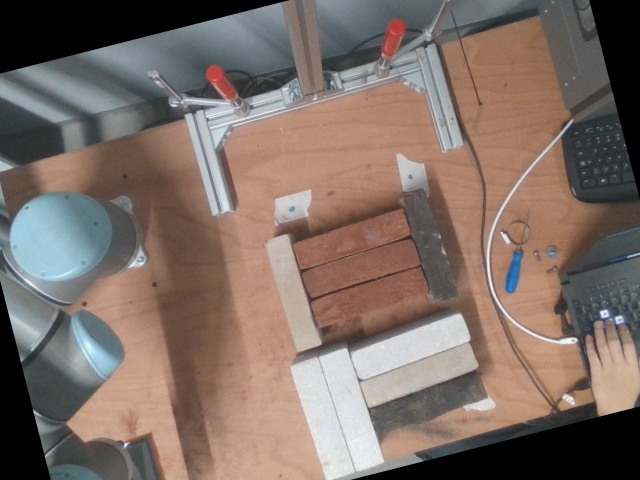brick-side: (319, 348, 385, 469), (290, 358, 355, 479), (352, 315, 470, 381), (369, 372, 488, 437), (363, 345, 478, 406), (303, 240, 418, 298), (312, 268, 427, 326), (401, 188, 460, 301), (297, 210, 410, 269), (262, 236, 319, 350)
